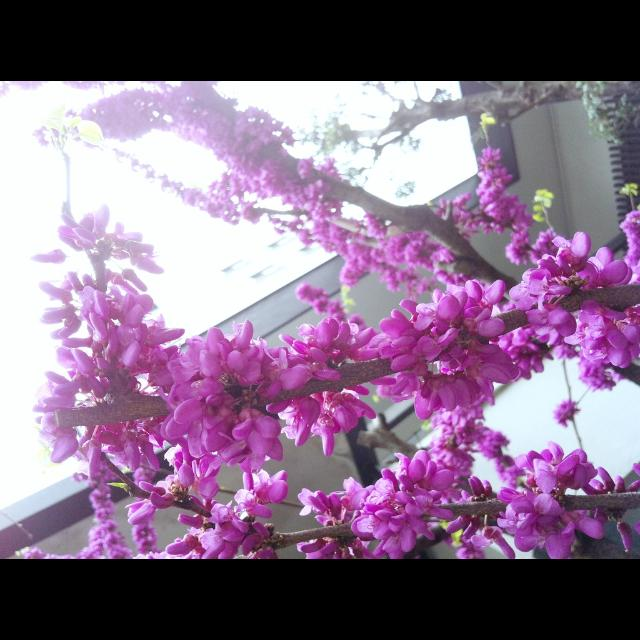Flower: (1, 81, 640, 558), (554, 396, 580, 424)
